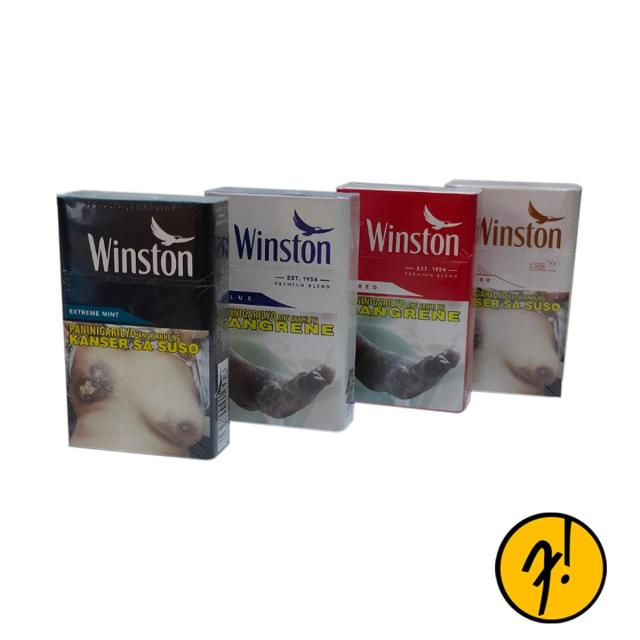winston: (48, 193, 230, 460), (208, 188, 357, 434), (346, 185, 471, 419), (457, 179, 575, 400)
